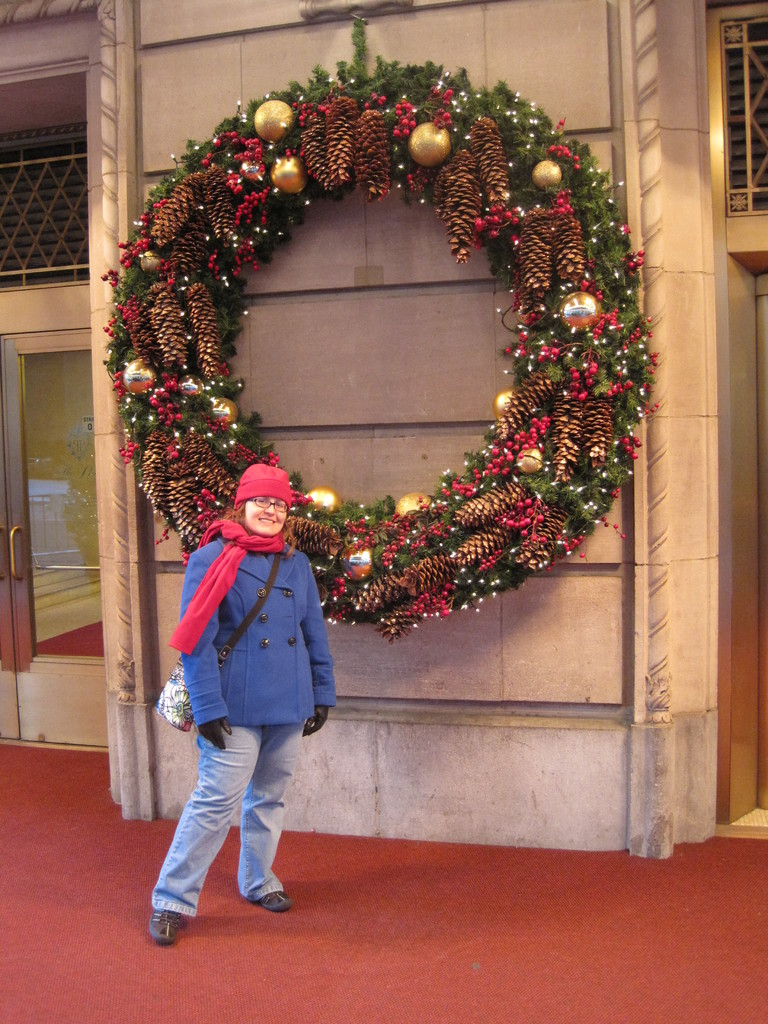Person: (150, 463, 336, 944)
